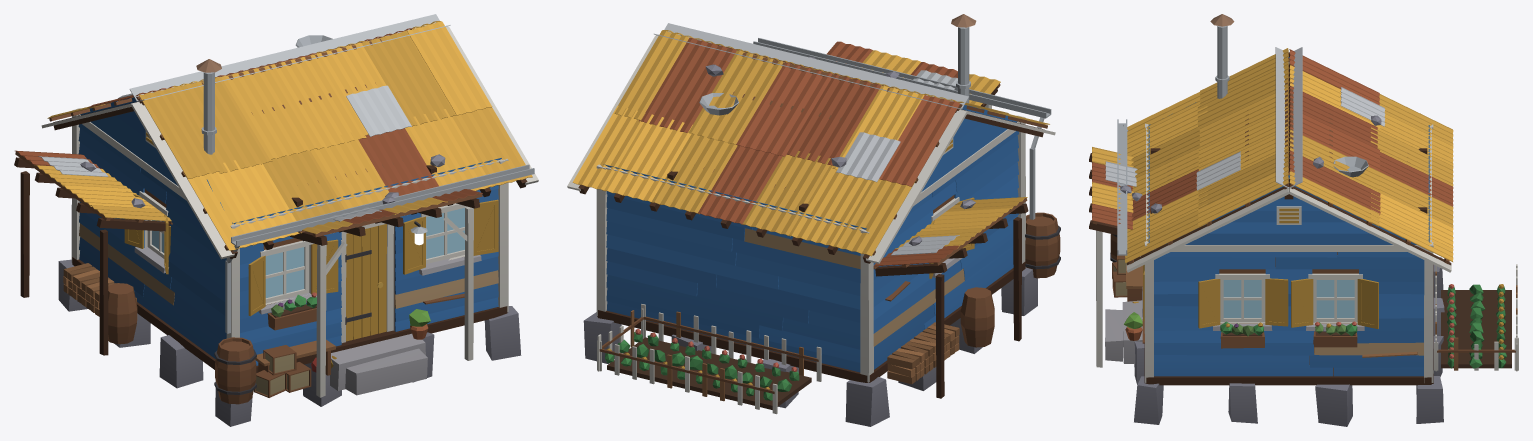
3 renders of one model, left to right at view 1: azimuth 30°, elevation 25°; view 2: azimuth 150°, elevation 25°; view 3: azimuth 270°, elevation 25°, orthographic. The views are drawn at different scales.
Visible parts, largest first — view 1: H01_ROOF, H01_WALL_E, H01_WALL_S, H01_BASE, H01_DOOR_main; view 2: H01_ROOF, H01_WALL_W, H01_WALL_S, H01_BASE, H01_WALL_E; view 3: H01_ROOF, H01_WALL_N, H01_BASE, H01_WALL_E, H01_WALL_W.
Part boxes in pixels (<box>): H01_ROOF: <box>41,14,538,259</box>; H01_WALL_E: <box>214,158,534,404</box>; H01_WALL_S: <box>14,92,239,358</box>; H01_BASE: <box>58,257,521,426</box>; H01_DOOR_main: <box>345,224,386,341</box>; H01_ROOF: <box>567,14,1055,263</box>; H01_WALL_W: <box>596,164,869,414</box>; H01_WALL_S: <box>860,105,1028,398</box>; H01_BASE: <box>583,261,1037,426</box>; H01_WALL_E: <box>753,38,1060,278</box>; H01_ROOF: <box>1125,14,1453,272</box>; H01_WALL_N: <box>1145,172,1432,382</box>; H01_BASE: <box>1105,257,1444,426</box>; H01_WALL_E: <box>1089,119,1153,382</box>; H01_WALL_W: <box>1424,125,1518,382</box>.
Bounding box in the file's own units: 6.11 × 5.24 × 6.93.
